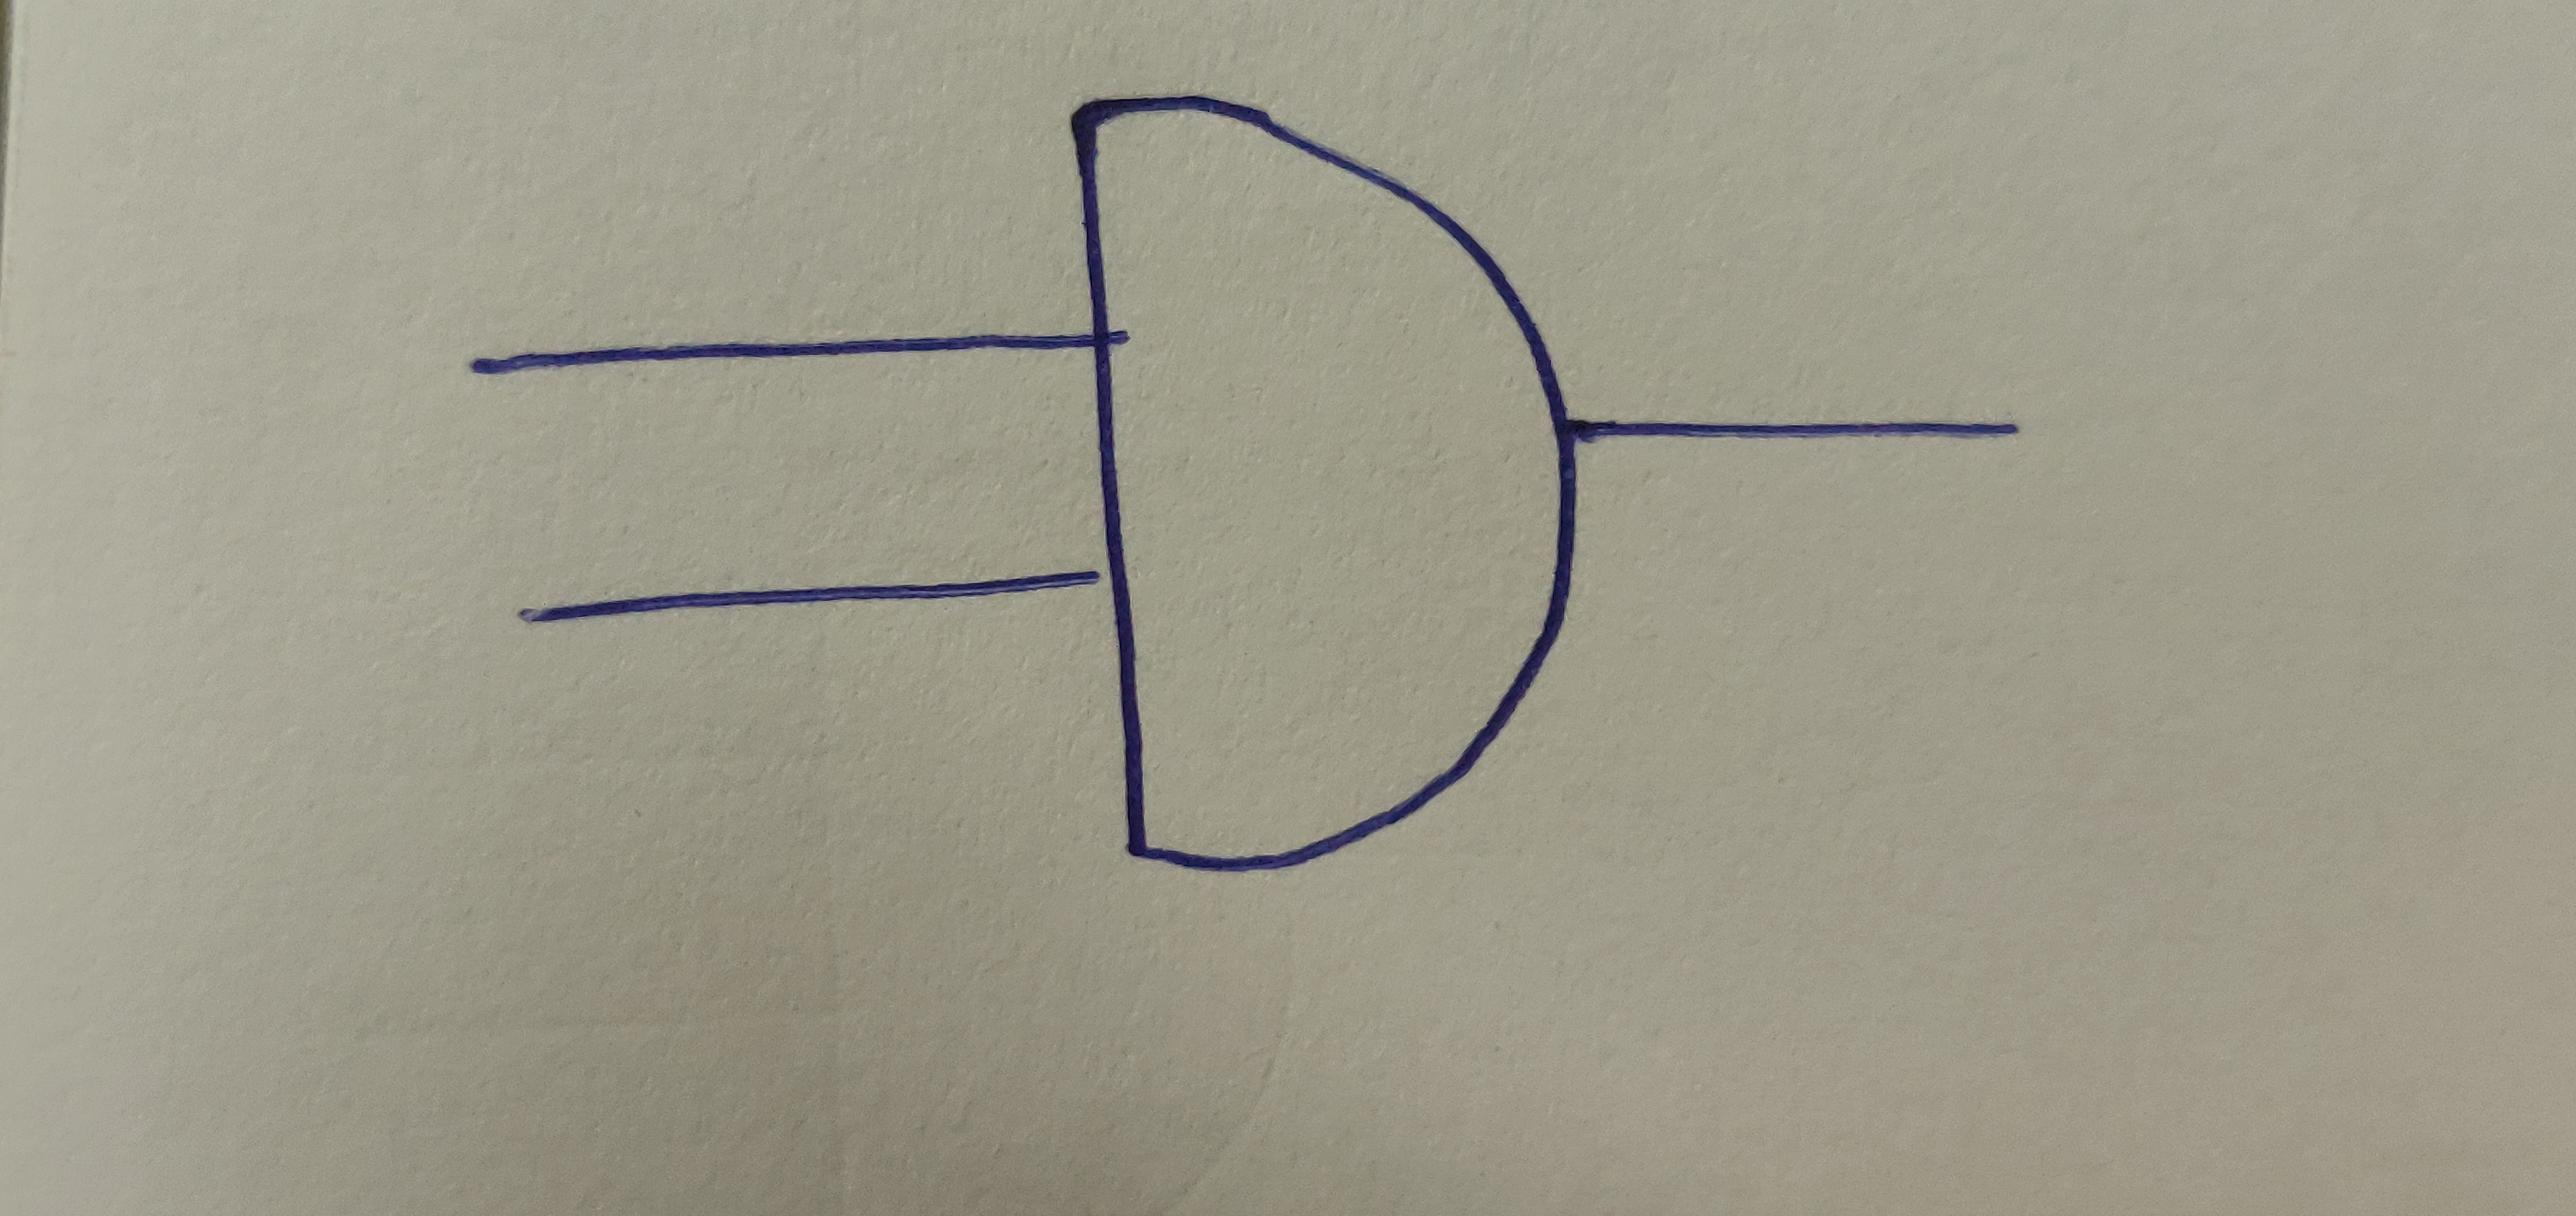and: (1071, 97, 1585, 874)
